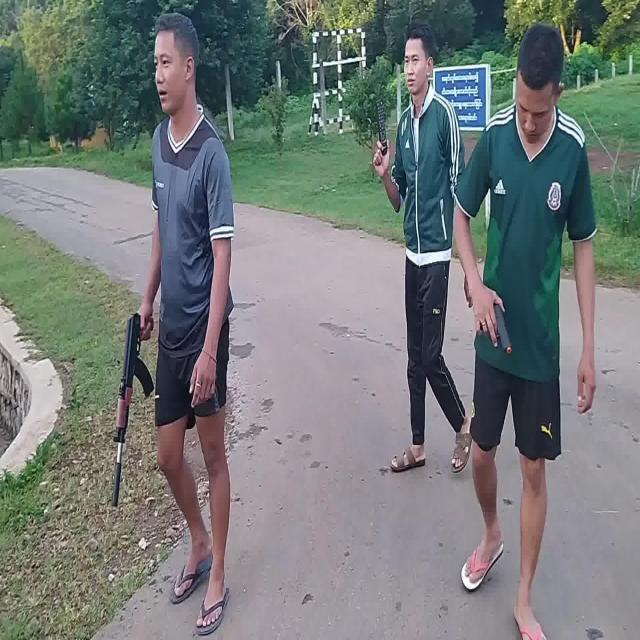gun: (111, 315, 153, 506), (493, 304, 512, 354)
